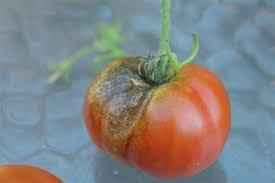tomato late blight: (82, 52, 233, 180)
